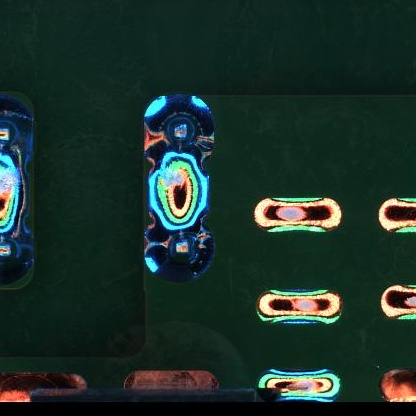spot: (141, 92, 217, 164), (141, 219, 215, 285), (1, 225, 35, 291), (1, 93, 34, 156)
